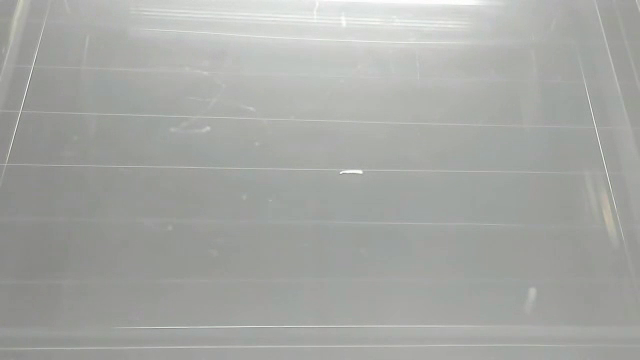alpha: (336, 165, 368, 182)
